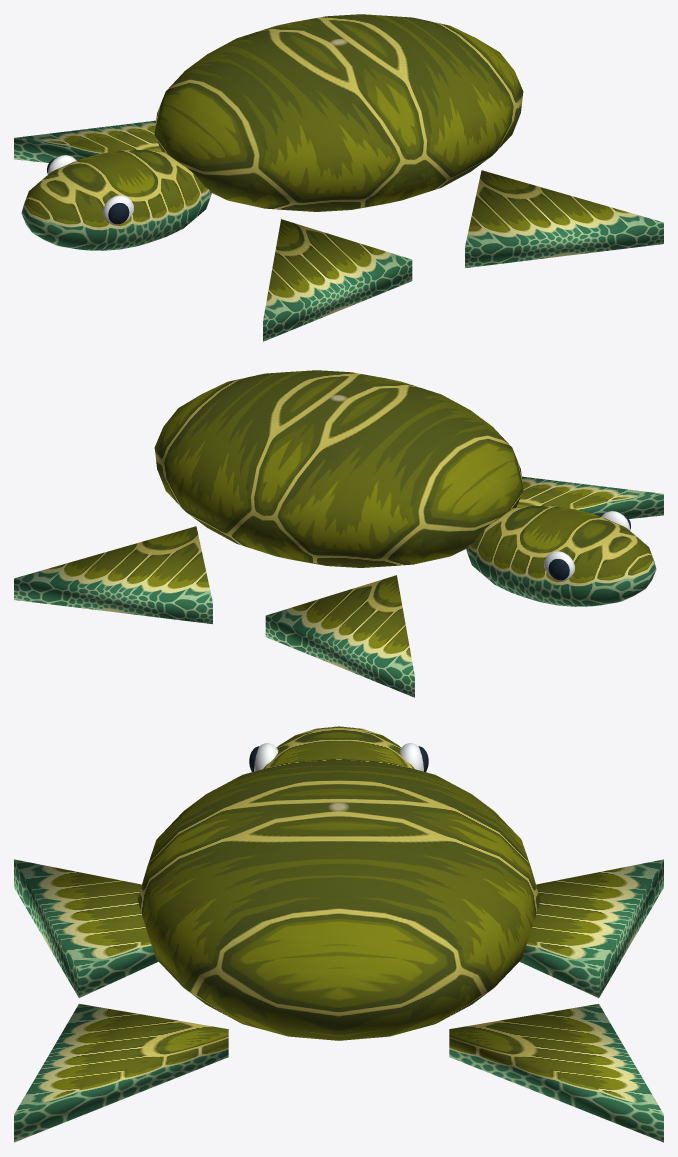
The model's file is sea_turtle-DHjAhUqL.glb.
The picture shows the model from 3 angles, top to bottom: view 1: azimuth 30°, elevation 25°; view 2: azimuth 150°, elevation 25°; view 3: azimuth 270°, elevation 25°; orthographic projection. The views are drawn at different scales.
Parts seen in each view (by area): view 1: sea_turtle_Shell, sea_turtle_Head, sea_turtle_Fin.002, sea_turtle_Fin, sea_turtle_Fin.001; view 2: sea_turtle_Shell, sea_turtle_Head, sea_turtle_Fin.003, sea_turtle_Fin.001, sea_turtle_Fin; view 3: sea_turtle_Shell, sea_turtle_Fin.002, sea_turtle_Fin.003, sea_turtle_Fin, sea_turtle_Fin.001, sea_turtle_Head.
Part boxes in pixels (left/top/right/bottom): sea_turtle_Shell: left=154, top=14, right=523, bottom=211; sea_turtle_Head: left=21, top=149, right=211, bottom=250; sea_turtle_Fin.002: left=465, top=170, right=663, bottom=268; sea_turtle_Fin: left=263, top=219, right=412, bottom=341; sea_turtle_Fin.001: left=14, top=120, right=161, bottom=162; sea_turtle_Shell: left=154, top=370, right=523, bottom=567; sea_turtle_Head: left=466, top=505, right=656, bottom=606; sea_turtle_Fin.003: left=14, top=526, right=212, bottom=624; sea_turtle_Fin.001: left=265, top=575, right=414, bottom=697; sea_turtle_Fin: left=516, top=476, right=663, bottom=518; sea_turtle_Shell: left=137, top=758, right=540, bottom=1040; sea_turtle_Fin.002: left=14, top=1004, right=228, bottom=1142; sea_turtle_Fin.003: left=449, top=1004, right=663, bottom=1142; sea_turtle_Fin: left=14, top=859, right=158, bottom=997; sea_turtle_Fin.001: left=519, top=859, right=663, bottom=997; sea_turtle_Head: left=263, top=726, right=414, bottom=768.
Size of the model in its own units: 2.13 by 0.6368 by 1.8.
3 materials, 1 textured.
